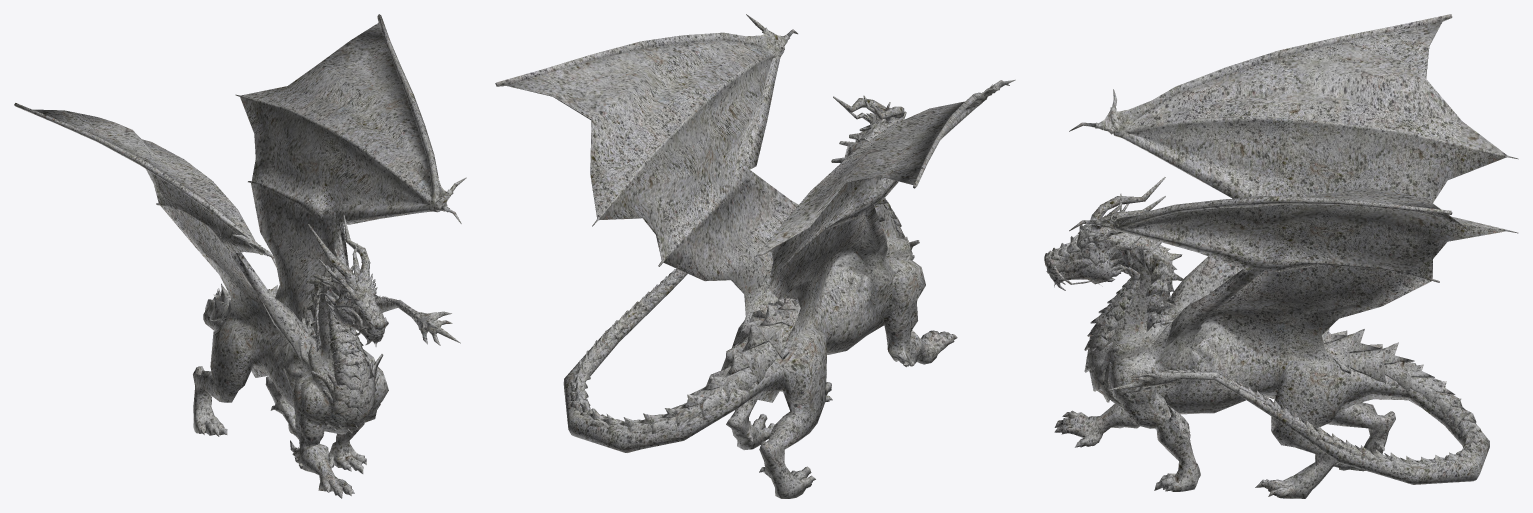
Rendered from statue.glb.
3 views of the same model, side by side, from view 1: azimuth 30°, elevation 25°; view 2: azimuth 150°, elevation 25°; view 3: azimuth 270°, elevation 25° (orthographic). The views are drawn at different scales.
Visible parts, largest first — view 1: Escamas.001, Escamas; view 2: Escamas.001, Escamas; view 3: Escamas.001, Escamas.
Boxes of the visible parts, box(x1,y1,x2,y2) form: Escamas.001: box(14, 14, 466, 498); Escamas: box(205, 262, 437, 433); Escamas.001: box(495, 14, 1015, 498); Escamas: box(569, 108, 919, 434); Escamas.001: box(1046, 14, 1518, 498); Escamas: box(1044, 224, 1485, 467).
Bounding box in the file's own units: 4.57 × 3.99 × 4.62.
Materials: 1 (1 with a texture image).
